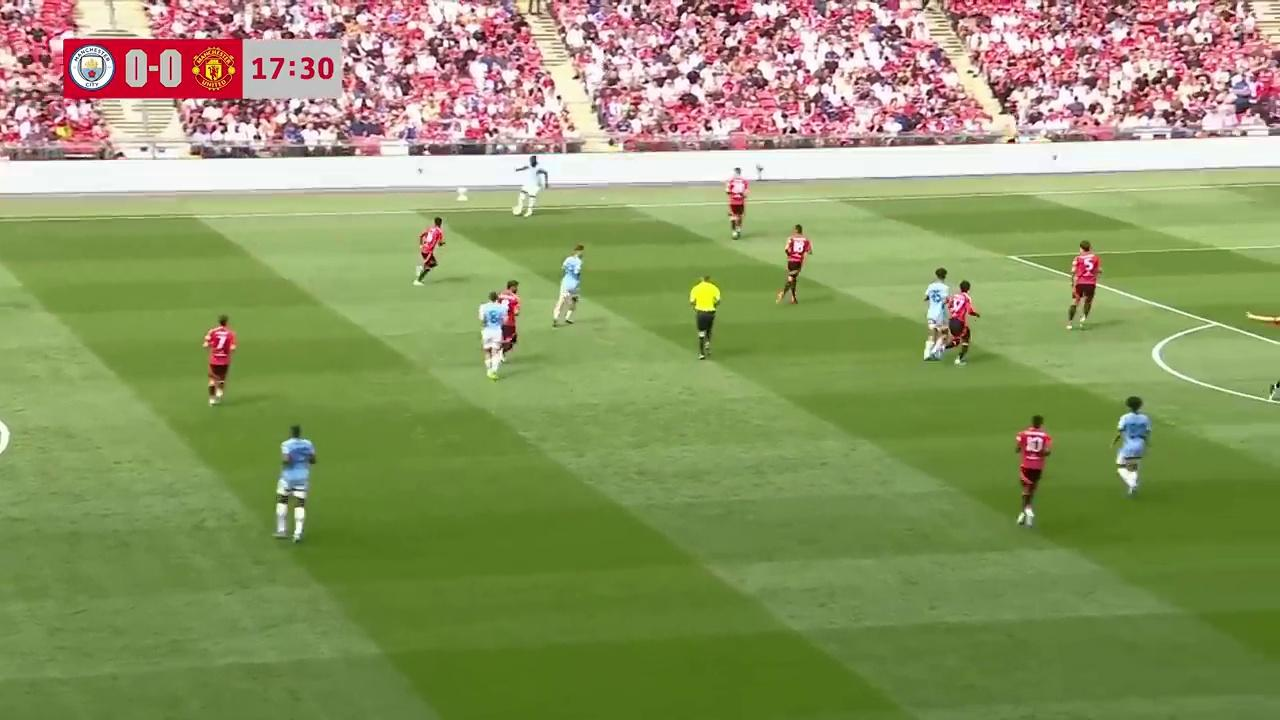ball: (512, 204, 522, 217)
player: (276, 423, 316, 543), (1015, 415, 1052, 529), (1111, 396, 1152, 497), (202, 314, 236, 407), (1065, 242, 1100, 330), (945, 279, 980, 366), (776, 224, 812, 306), (922, 268, 953, 363), (553, 244, 584, 326), (478, 291, 505, 379), (513, 151, 546, 217), (415, 218, 445, 285), (499, 280, 520, 359), (726, 168, 749, 239), (1269, 362, 1280, 404)
referee: (688, 273, 722, 358)
